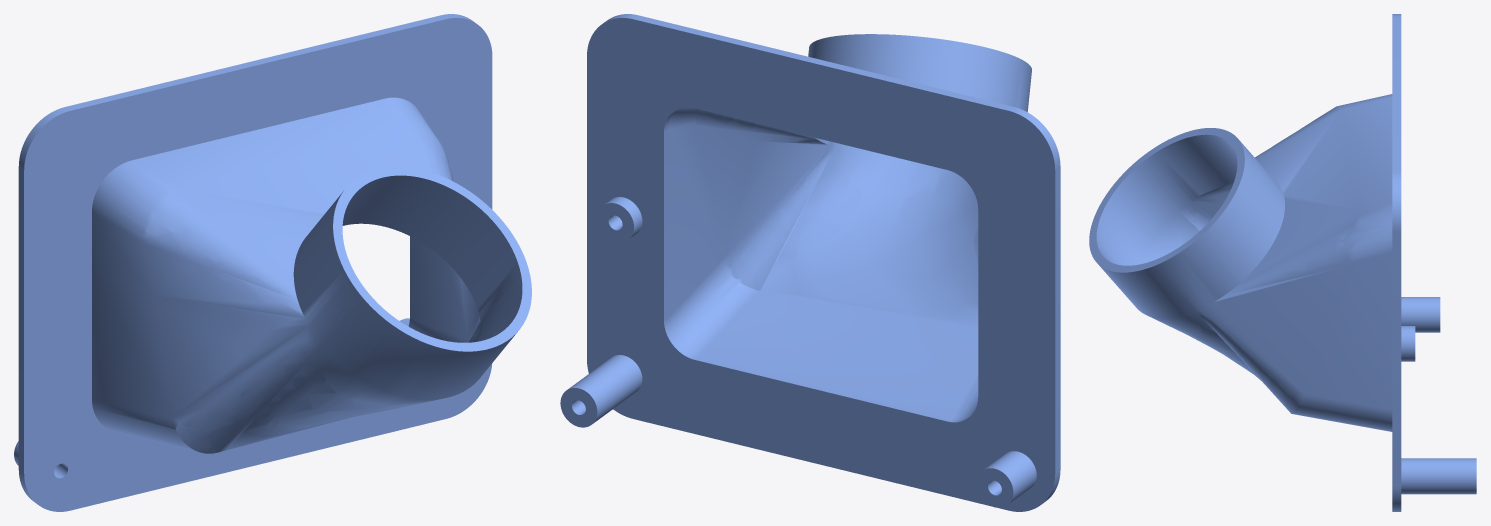
The picture shows the model from 3 angles, left to right: view 1: azimuth 30°, elevation 25°; view 2: azimuth 150°, elevation 25°; view 3: azimuth 270°, elevation 25°; orthographic projection. The views are drawn at different scales.
Parts seen in each view (by area): view 1: Option_C_concept; view 2: Option_C_concept; view 3: Option_C_concept.
Boxes of the visible parts, box(x1,y1,x2,y2) form: Option_C_concept: box(14, 14, 531, 511); Option_C_concept: box(560, 14, 1060, 511); Option_C_concept: box(1089, 14, 1476, 511).
Size of the model in its own units: 0.152 by 0.124 by 0.1298.
